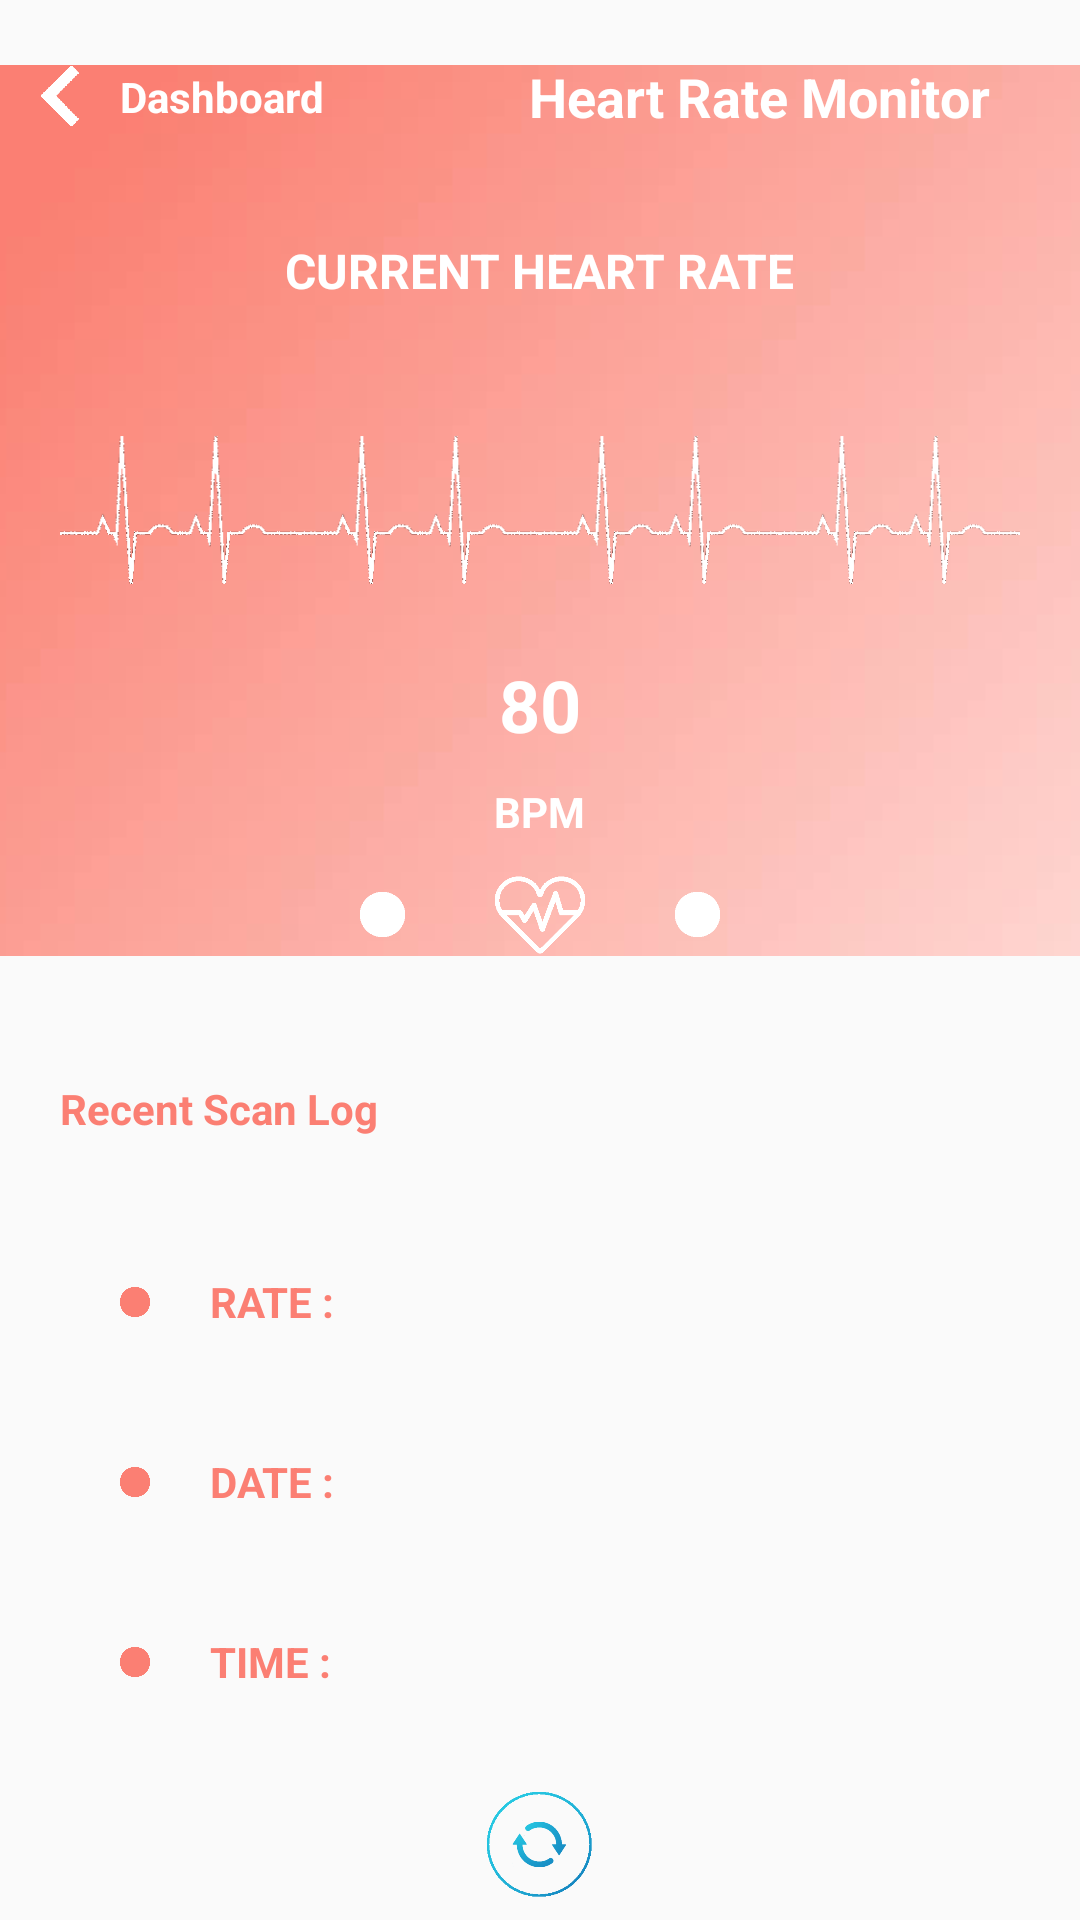

Locate icon controls on the screen. Image size 1080w x 1920h, boxes as (x1,y1,x2,y2).
back: (41,66,79,126)
dot: (360,892,405,937), (675,892,720,937)
ecg: (60,436,300,584), (300,436,540,584), (540,436,780,584), (780,436,1020,584)
heartbeat: (495,876,585,954)
refreshhome: (487,1792,592,1897)
